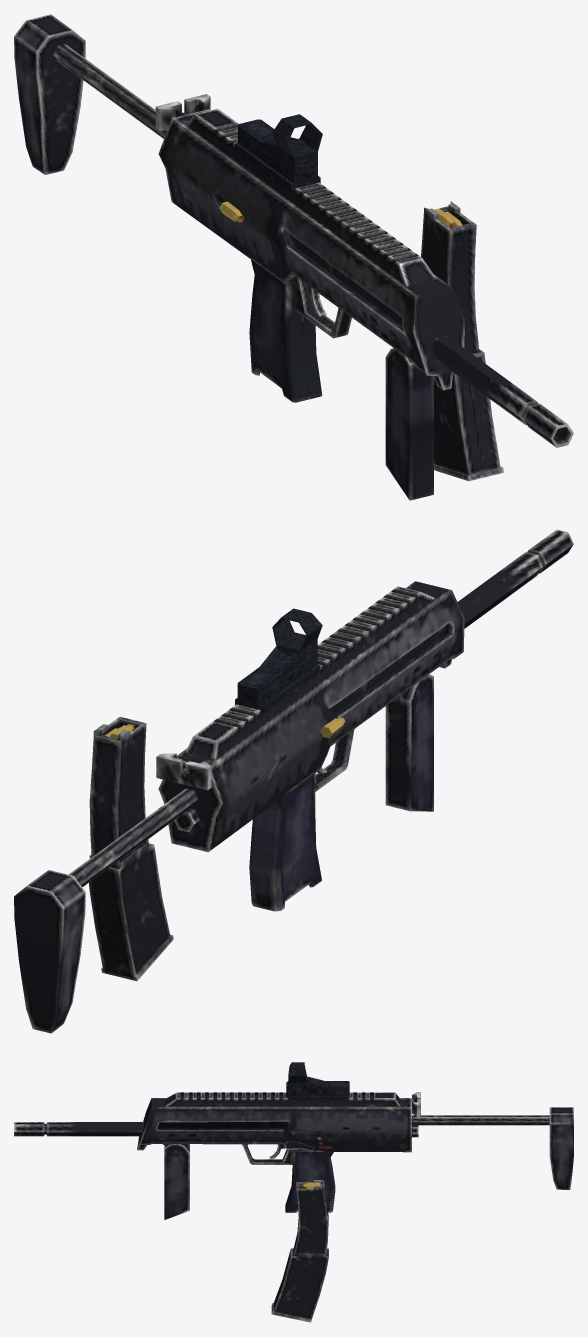
3 renders of one model, top to bottom at view 1: azimuth 30°, elevation 25°; view 2: azimuth 150°, elevation 25°; view 3: azimuth 270°, elevation 25°, orthographic. The views are drawn at different scales.
Parts seen in each view (by area): view 1: MP7:pCube1, pCube3, pCube2, MP7_Rail1:Mesh, MP7:pCube4, pCube7, pCylinder2, pCylinder1, MP7:pCube2, pCube6; view 2: MP7:pCube1, pCube3, pCube2, MP7_Rail1:Mesh, MP7:pCube4, pCube7, pCylinder2, pCylinder1, pCube6, MP7:pCube2; view 3: MP7:pCube1, pCube3, MP7_Rail1:Mesh, pCylinder2, pCube2, MP7:pCube4, pCube7, pCylinder1, MP7:pCube2.
Boxes of the visible parts, x1=… form: MP7:pCube1: x1=158, y1=109, x2=464, y2=402; pCube3: x1=421, y1=201, x2=503, y2=481; pCube2: x1=14, y1=14, x2=85, y2=174; MP7_Rail1:Mesh: x1=186, y1=108, x2=436, y2=286; MP7:pCube4: x1=385, y1=348, x2=433, y2=500; pCube7: x1=235, y1=114, x2=322, y2=191; pCylinder2: x1=430, y1=335, x2=573, y2=447; pCylinder1: x1=53, y1=44, x2=166, y2=138; MP7:pCube2: x1=295, y1=278, x2=351, y2=338; pCube6: x1=155, y1=94, x2=210, y2=130; MP7:pCube1: x1=158, y1=581, x2=464, y2=911; pCube3: x1=89, y1=717, x2=173, y2=981; pCube2: x1=14, y1=870, x2=85, y2=1033; MP7_Rail1:Mesh: x1=185, y1=586, x2=435, y2=759; MP7:pCube4: x1=385, y1=674, x2=433, y2=811; pCube7: x1=235, y1=608, x2=322, y2=712; pCylinder2: x1=457, y1=529, x2=573, y2=628; pCylinder1: x1=69, y1=788, x2=197, y2=886; pCube6: x1=156, y1=753, x2=211, y2=790; MP7:pCube2: x1=315, y1=729, x2=354, y2=791; MP7:pCube1: x1=137, y1=1098, x2=411, y2=1212; pCube3: x1=271, y1=1180, x2=328, y2=1322; MP7_Rail1:Mesh: x1=165, y1=1092, x2=400, y2=1106; pCylinder2: x1=14, y1=1122, x2=143, y2=1136; pCube2: x1=549, y1=1107, x2=573, y2=1189; MP7:pCube4: x1=163, y1=1144, x2=189, y2=1219; pCube7: x1=286, y1=1062, x2=349, y2=1100; pCylinder1: x1=412, y1=1115, x2=549, y2=1125; MP7:pCube2: x1=242, y1=1144, x2=292, y2=1164.
Bounding box in the file's own units: 4.03 × 6.34 × 15.3.
